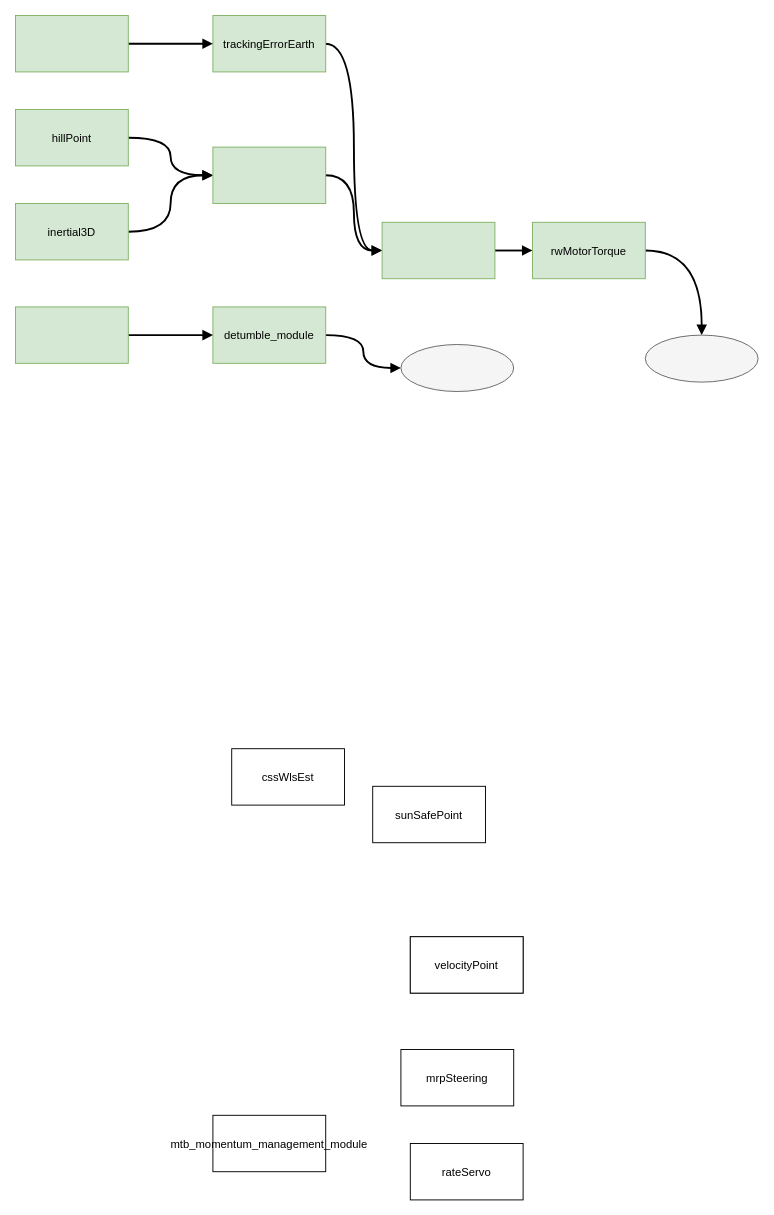
Some shapes in this 774 by 1215 pixel diagram are drawn without their labels. The centre of each missing label's shape, as x and y in pixels:
celTwoBody PointEarth: (71,43)
cmdRwMotorMsg: (701,358)
mrpFeedbackRWs: (438,250)
mtbCmdMsg: (457,368)
tam_com_module: (71,334)
trackingError: (269,175)
